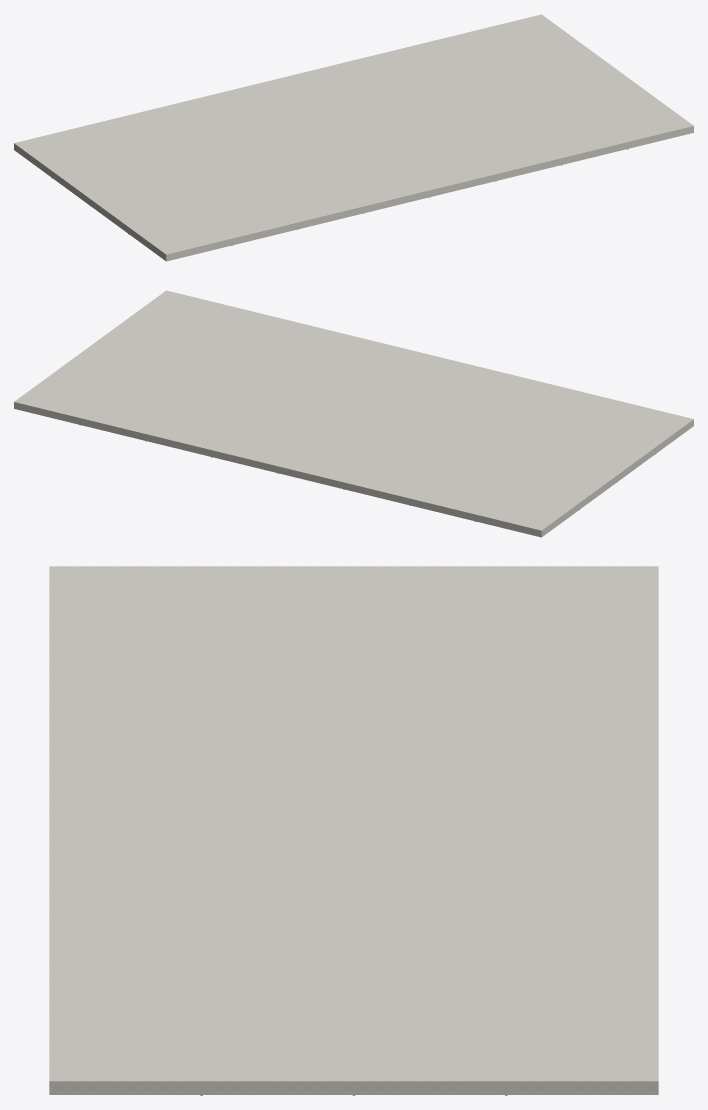
Rendered from OAA_Ceiling_Panel_4x2m.fbx.
3 views of the same model, one above another, from view 1: azimuth 30°, elevation 25°; view 2: azimuth 150°, elevation 25°; view 3: azimuth 270°, elevation 25° (orthographic). The views are drawn at different scales.
Parts seen in each view (by area): view 1: Body; view 2: Body; view 3: Body.
Part boxes in pixels (x1,y1,x2,y2): Body: (14, 14, 693, 261); Body: (14, 290, 693, 537); Body: (49, 566, 658, 1095).
Size of the model in its own units: 4 by 0.053 by 2.
